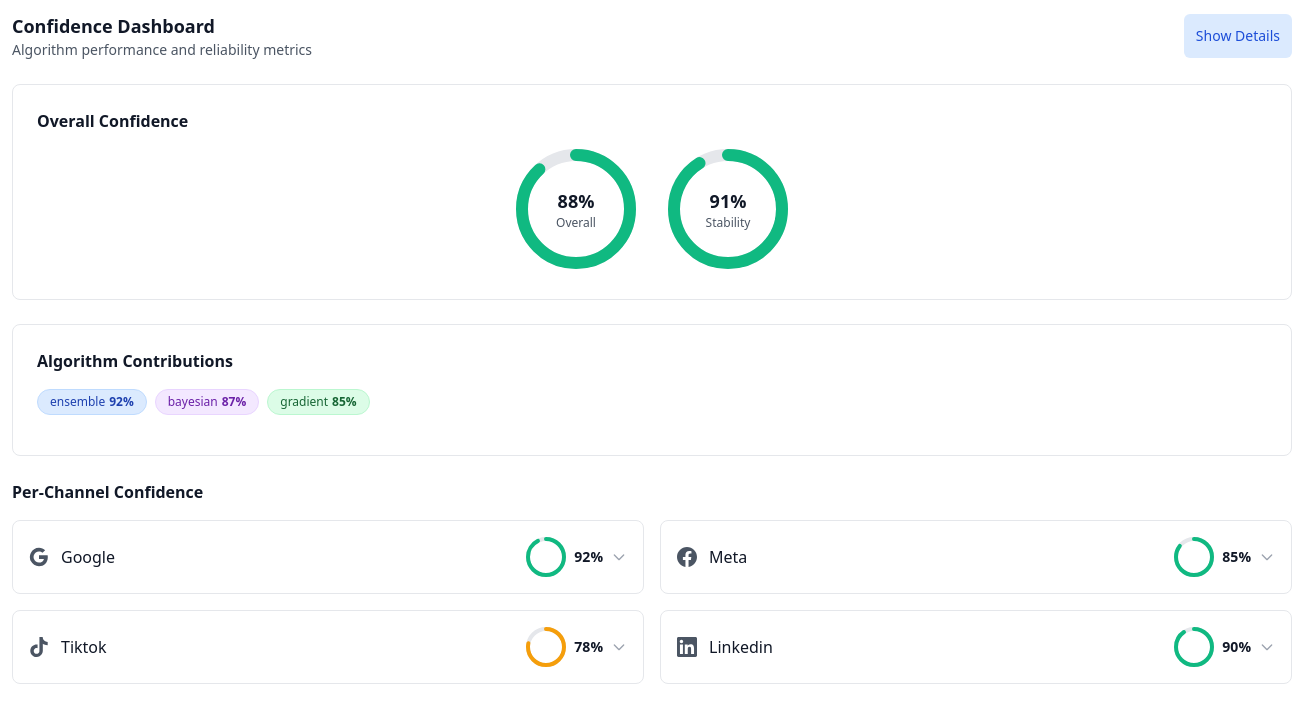
Test: ConfidenceDashboard › Interactive Features › toggles details visibility
The width and height of the screenshot is (1304, 727).
What coordinates should you click on to do the following:
click the button "Show Details"
I would click on:
 (1238, 36)
Its box is left=1184, top=14, right=1292, bottom=58.
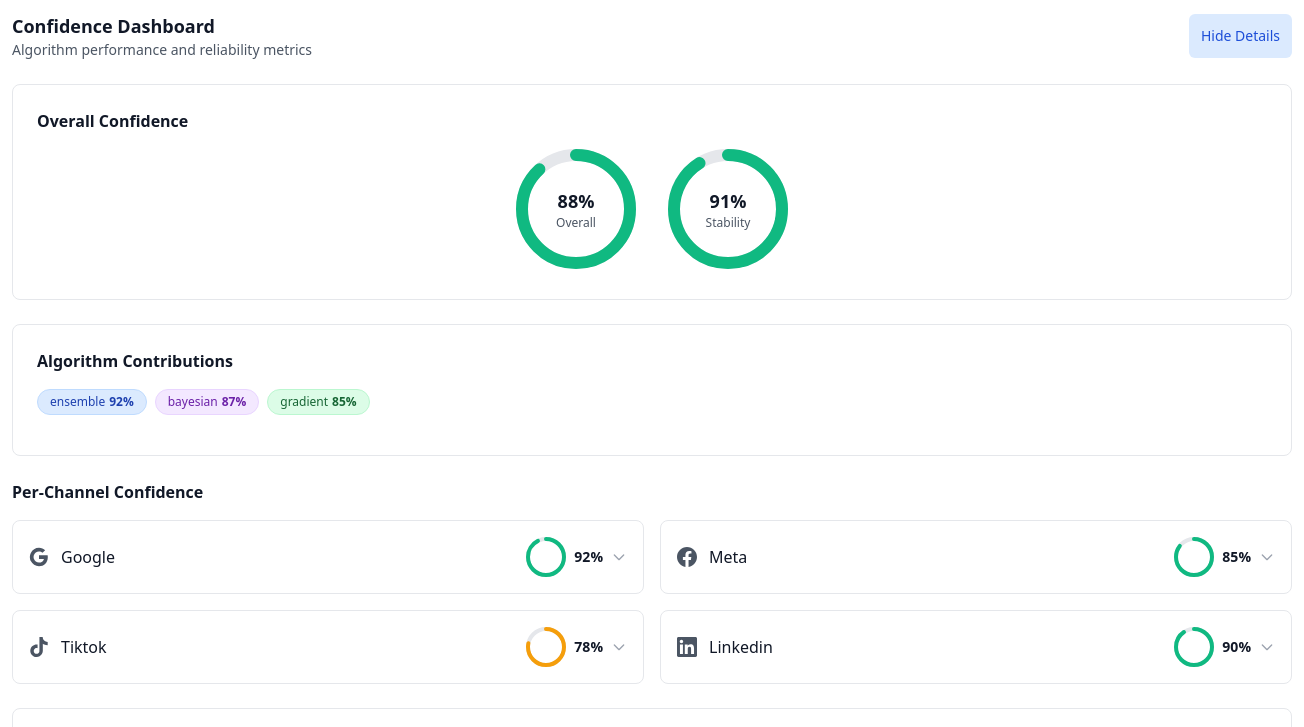
Now the button "Hide Details" is shown
What coordinates should you click on to do the following:
click the button "Hide Details"
I would click on:
 (1240, 36)
Its box is left=1189, top=14, right=1292, bottom=58.
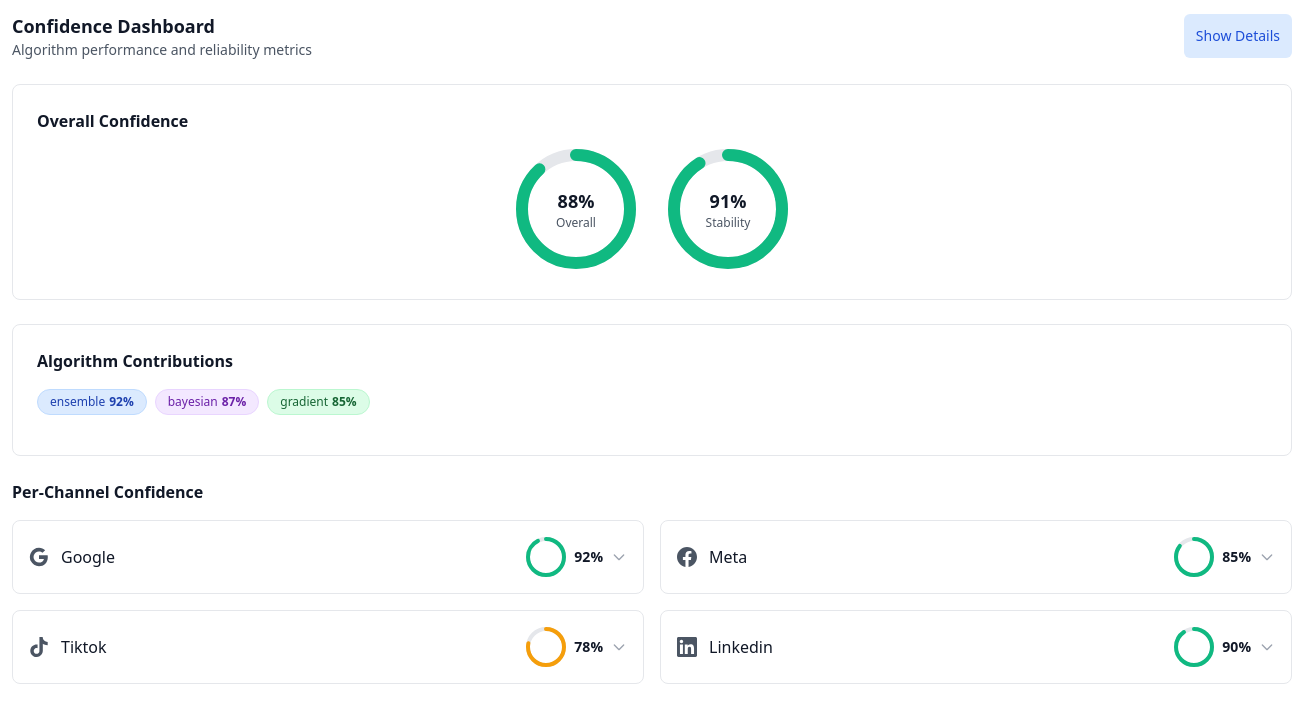
Now the button "Show Details" is shown, box left=1184, top=14, right=1292, bottom=58
